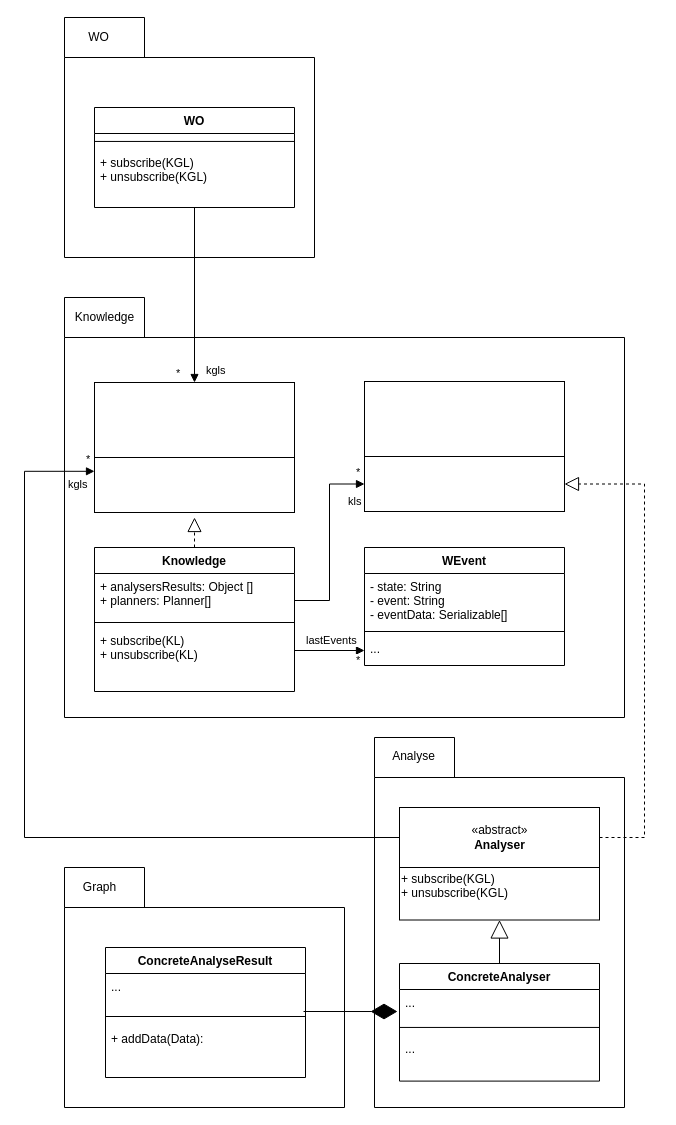
Some shapes in this 676 by 1125 pixel diagram are drawn without their labels. The box of each missing label's shape, as (x1, y1, x2, y2) in pixels:
+ newKnowledge(WEvent): (364, 456, 564, 512)
+ publish(WEvent): (94, 456, 294, 512)
«interface» KnowledgeGeneratorListener: (94, 382, 294, 458)
«interface» KnowledgeListener: (364, 380, 564, 456)
